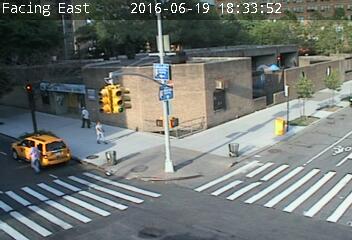neg: (211, 90, 227, 111), (223, 140, 238, 160), (103, 146, 118, 166), (264, 85, 277, 102), (247, 72, 260, 89)
pos: (20, 142, 44, 173), (87, 117, 107, 144), (75, 102, 95, 129)
